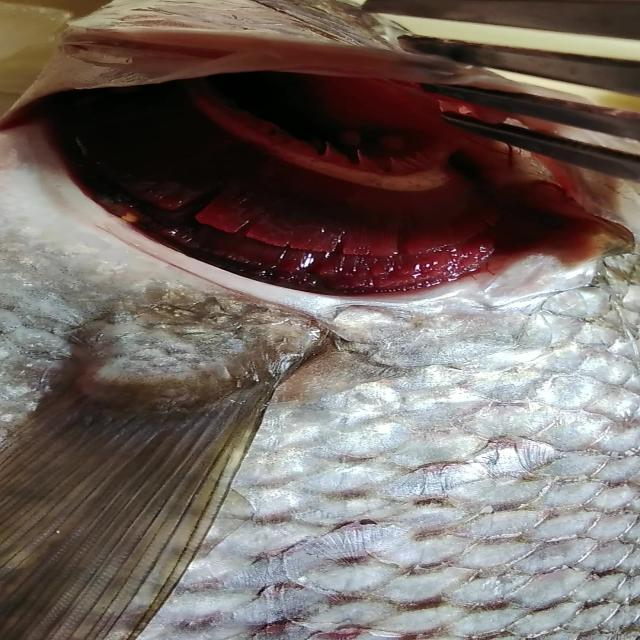Fresh: (67, 52, 587, 307)
